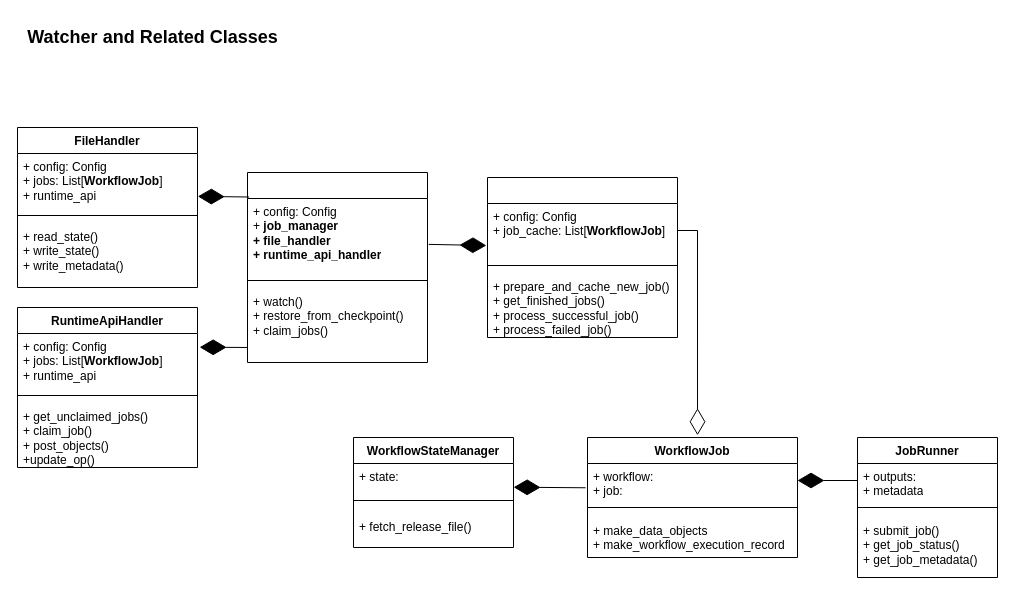
Image size: 1015x597. Some labels were removed from this diagram. The shapes that lost their labels are listed below. From the top down, each one's box as (x1, y1, x2, y2) in pixels, then its label:
(246, 172, 428, 362): Watcher
(486, 176, 678, 338): JobManager
